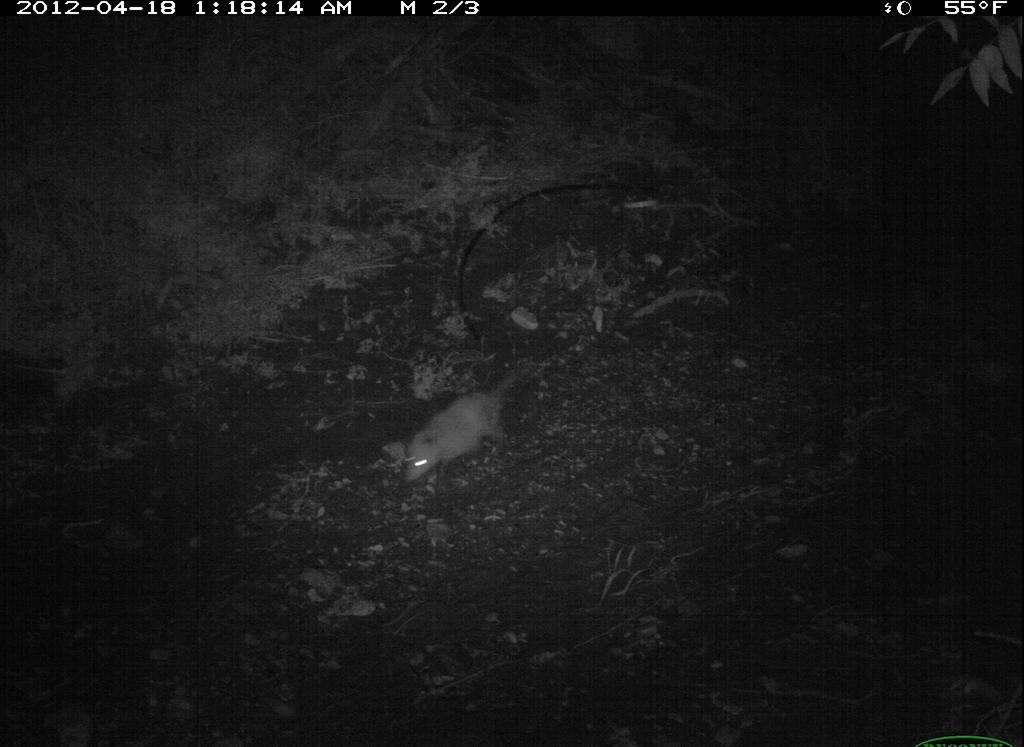opossum: (395, 361, 548, 495)
